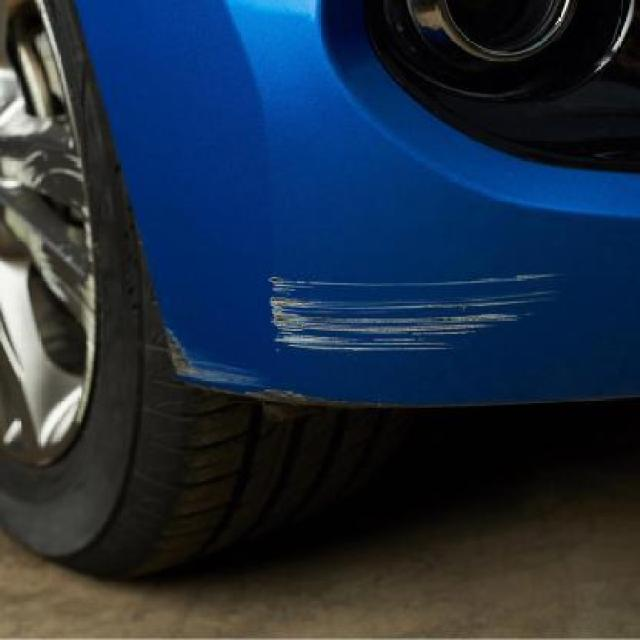scratch: (256, 260, 572, 358), (151, 316, 381, 439)
